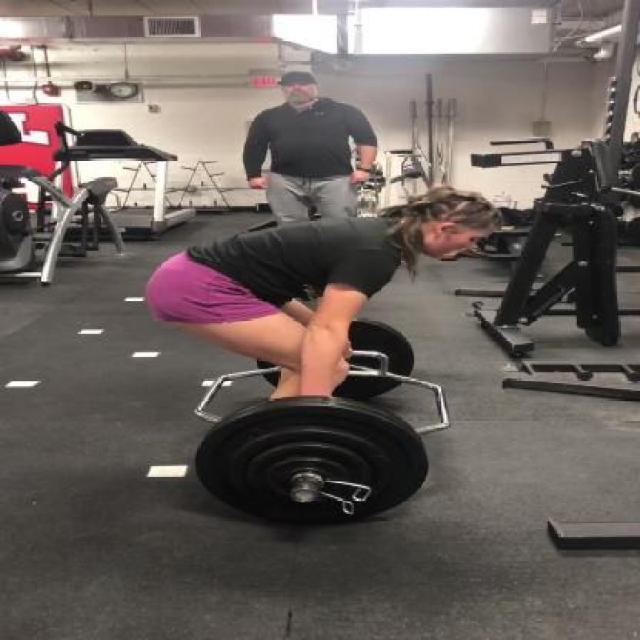barbell: (160, 388, 457, 532)
